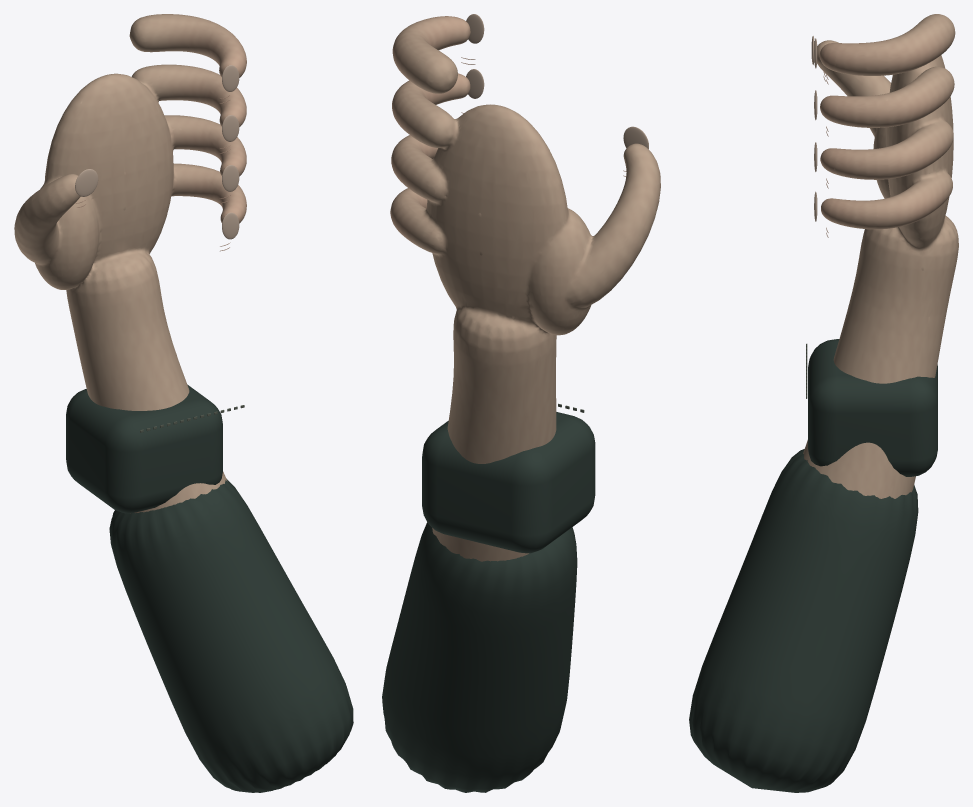
The model's file is nightguard-phone-hand.glb.
3 views of the same model, side by side, from view 1: azimuth 30°, elevation 25°; view 2: azimuth 150°, elevation 25°; view 3: azimuth 270°, elevation 25° (orthographic). The views are drawn at different scales.
Visible parts, largest first — view 1: Nightguard woven cuff, Phone hand skin, Translucent natural nail plates; view 2: Phone hand skin, Nightguard woven cuff, Translucent natural nail plates; view 3: Nightguard woven cuff, Phone hand skin, Translucent natural nail plates.
Part boxes in pixels (x1=…): Nightguard woven cuff: x1=66, y1=384, x2=353, y2=792; Phone hand skin: x1=14, y1=14, x2=246, y2=513; Translucent natural nail plates: x1=75, y1=65, x2=239, y2=239; Phone hand skin: x1=390, y1=16, x2=660, y2=561; Nightguard woven cuff: x1=382, y1=412, x2=595, y2=792; Translucent natural nail plates: x1=466, y1=14, x2=648, y2=149; Nightguard woven cuff: x1=689, y1=339, x2=937, y2=792; Phone hand skin: x1=803, y1=14, x2=958, y2=498; Translucent natural nail plates: x1=811, y1=36, x2=817, y2=221.
Bounding box in the file's own units: 0.1273 × 0.3185 × 0.1037.
